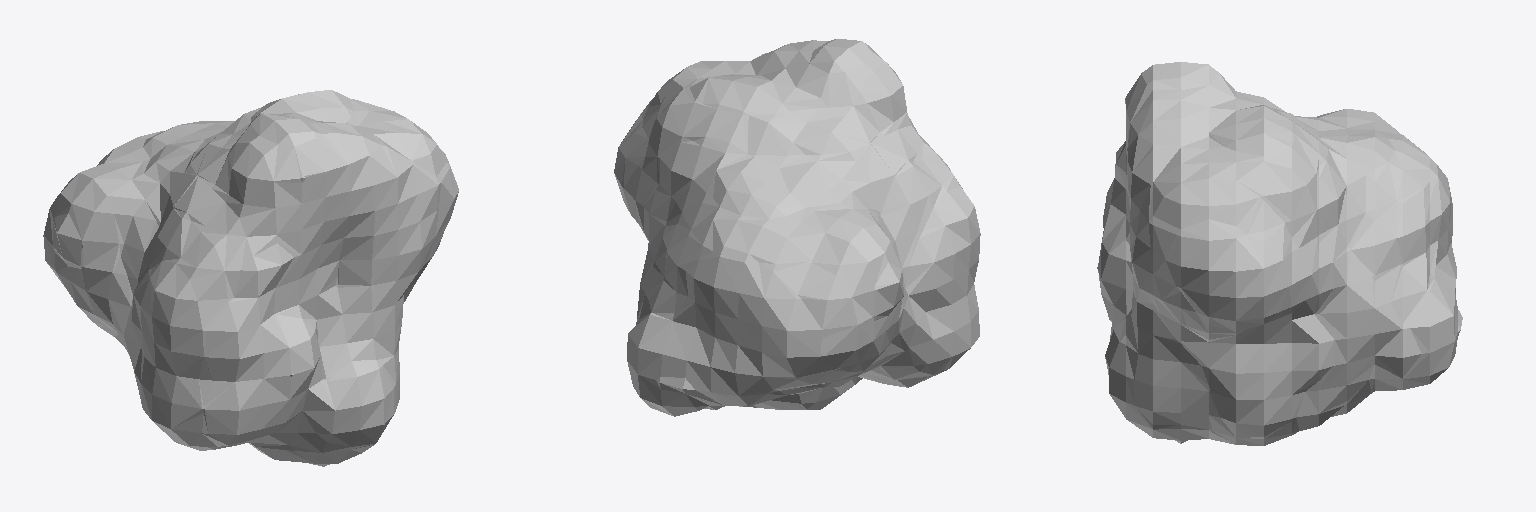
Rendered from 1qgd_cms.obj.
3 renders of one model, left to right at view 1: azimuth 30°, elevation 25°; view 2: azimuth 150°, elevation 25°; view 3: azimuth 270°, elevation 25°, orthographic.
Bounding box in the file's own units: 95.54 × 98.91 × 91.58.